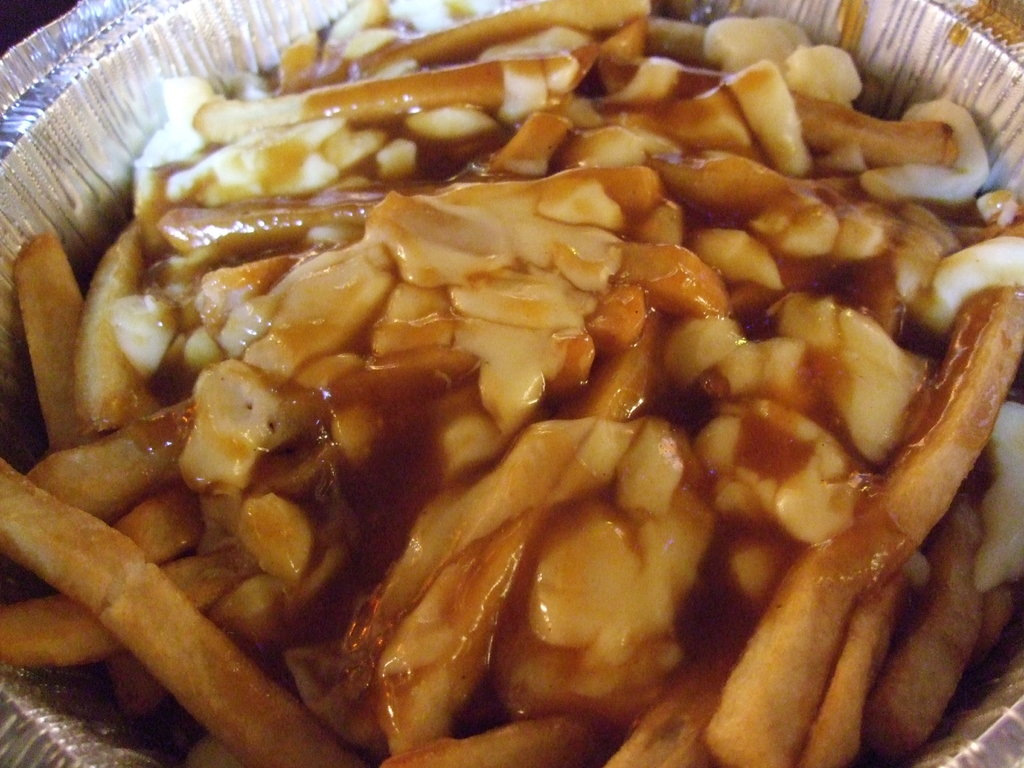French fries: (0, 0, 1024, 768)
